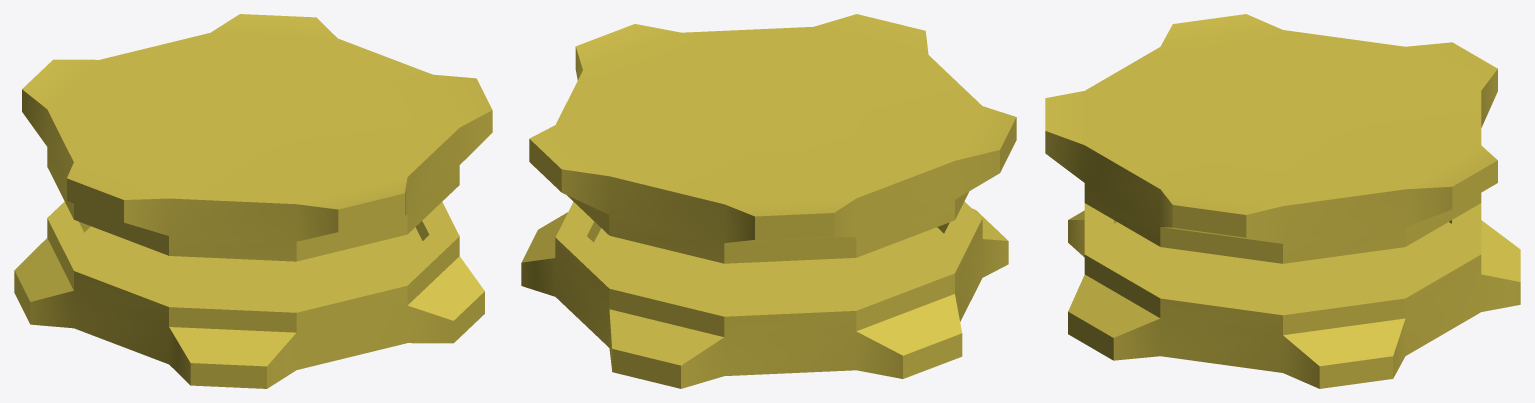
Rendered from gBTeleporter_01.fbx.
3 views of the same model, side by side, from view 1: azimuth 30°, elevation 25°; view 2: azimuth 150°, elevation 25°; view 3: azimuth 270°, elevation 25° (orthographic). The views are drawn at different scales.
Parts seen in each view (by area): view 1: teleporterTop_02, teleporterBottom_01; view 2: teleporterTop_02, teleporterBottom_01; view 3: teleporterTop_02, teleporterBottom_01.
Part boxes in pixels (box(x1,y1,x2,y2)): teleporterTop_02: box(22, 14, 492, 261); teleporterBottom_01: box(14, 201, 484, 388); teleporterTop_02: box(529, 14, 1016, 263); teleporterBottom_01: box(521, 201, 1008, 388); teleporterTop_02: box(1045, 14, 1497, 263); teleporterBottom_01: box(1068, 203, 1520, 388).
Bounding box in the file's own units: 228 × 92.06 × 228.
